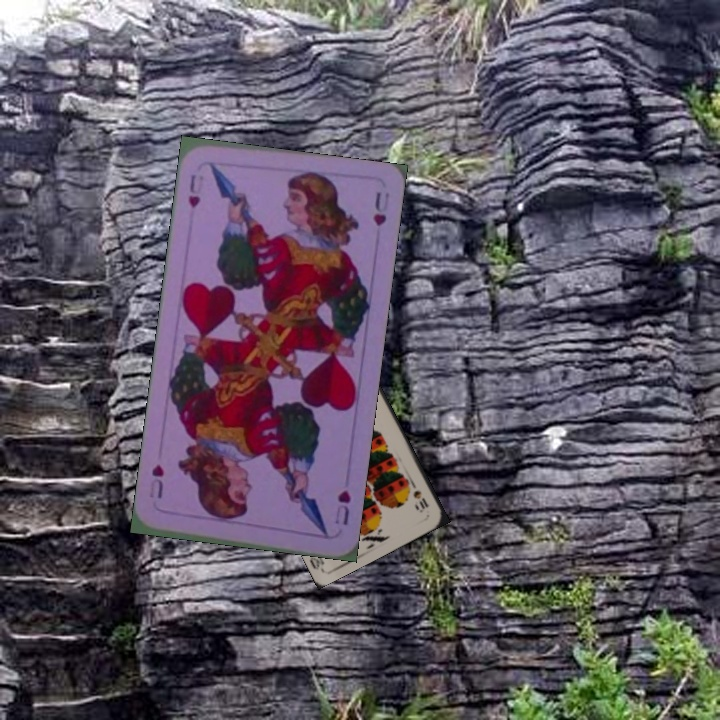HU: (330, 485, 353, 528), (184, 170, 203, 211)
S10: (407, 477, 431, 514)
